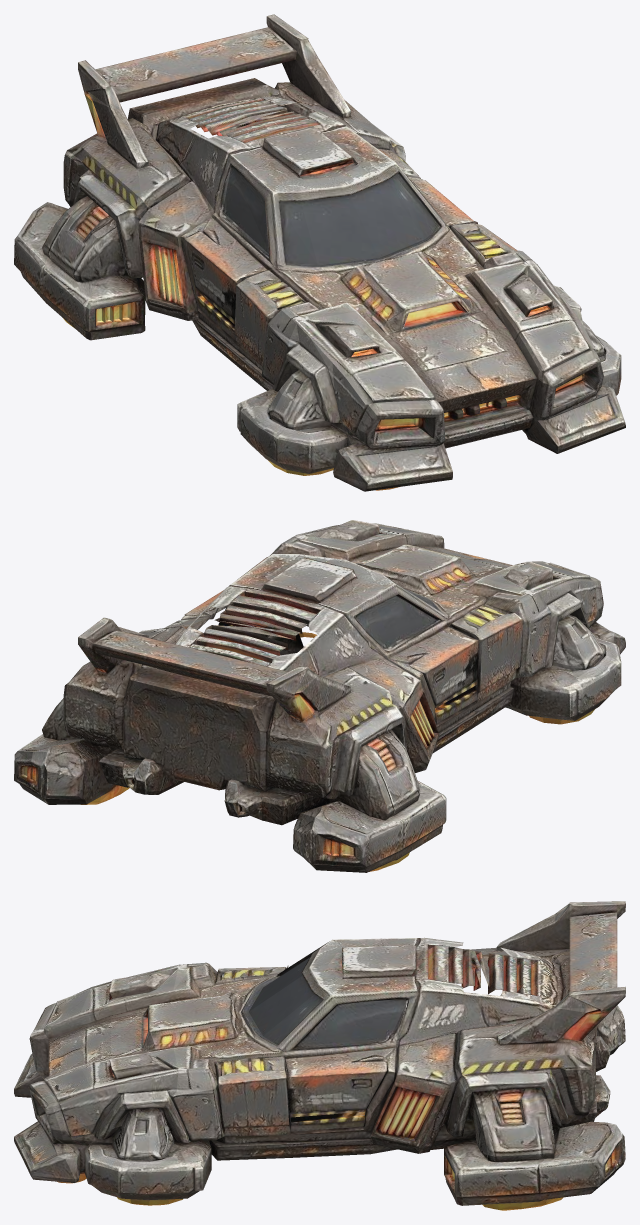
Rendered from drone.glb.
3 renders of one model, top to bottom at view 1: azimuth 30°, elevation 25°; view 2: azimuth 150°, elevation 25°; view 3: azimuth 270°, elevation 25°, orthographic. The views are drawn at different scales.
Visible parts, largest first — view 1: model; view 2: model; view 3: model.
Boxes of the visible parts, x1,y1,x2,y2 form: model: (14,14,625,491); model: (14,520,625,872); model: (14,901,625,1210).
Bounding box in the file's own units: 1.2 × 0.6694 × 1.9.
Materials: 1 (1 with a texture image).
